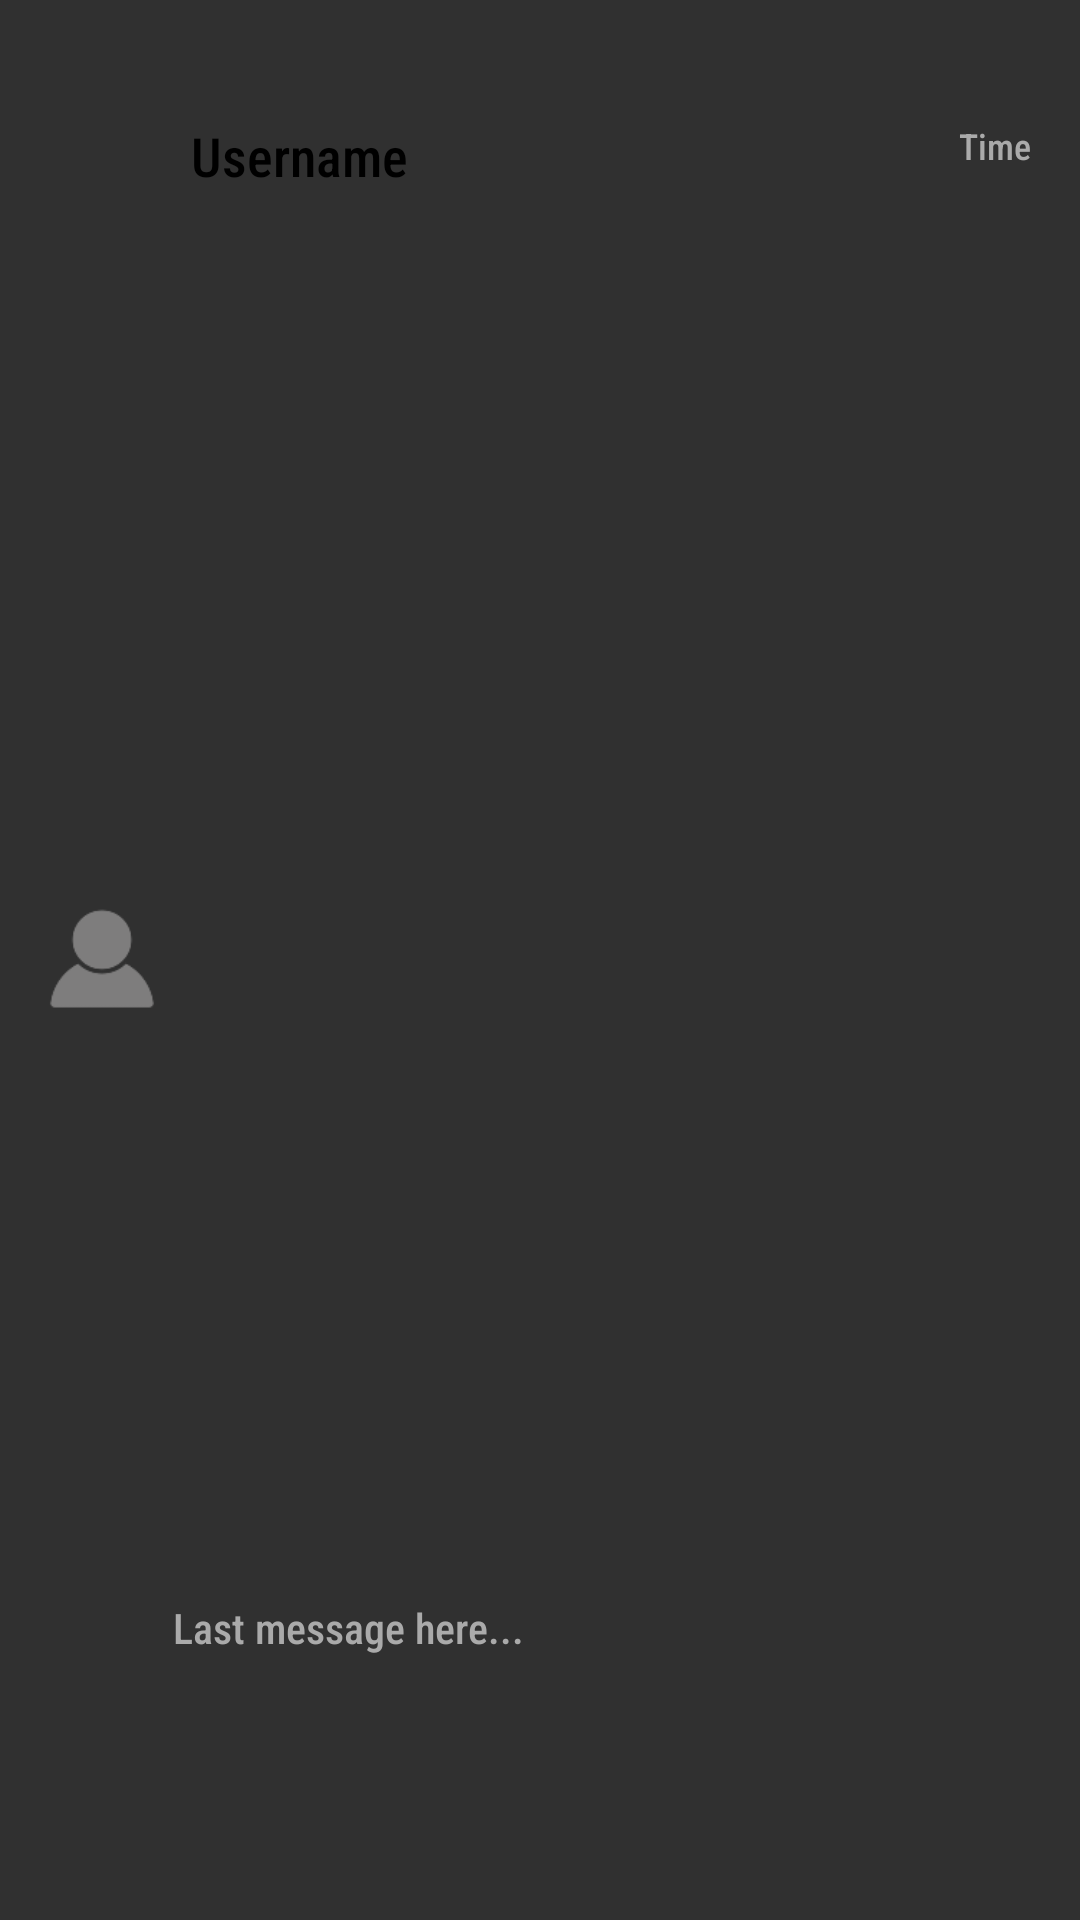

Screen size 1080px x 1920px. Icon name, then its center in pixels as [x,y]:
profile: [102,959]
